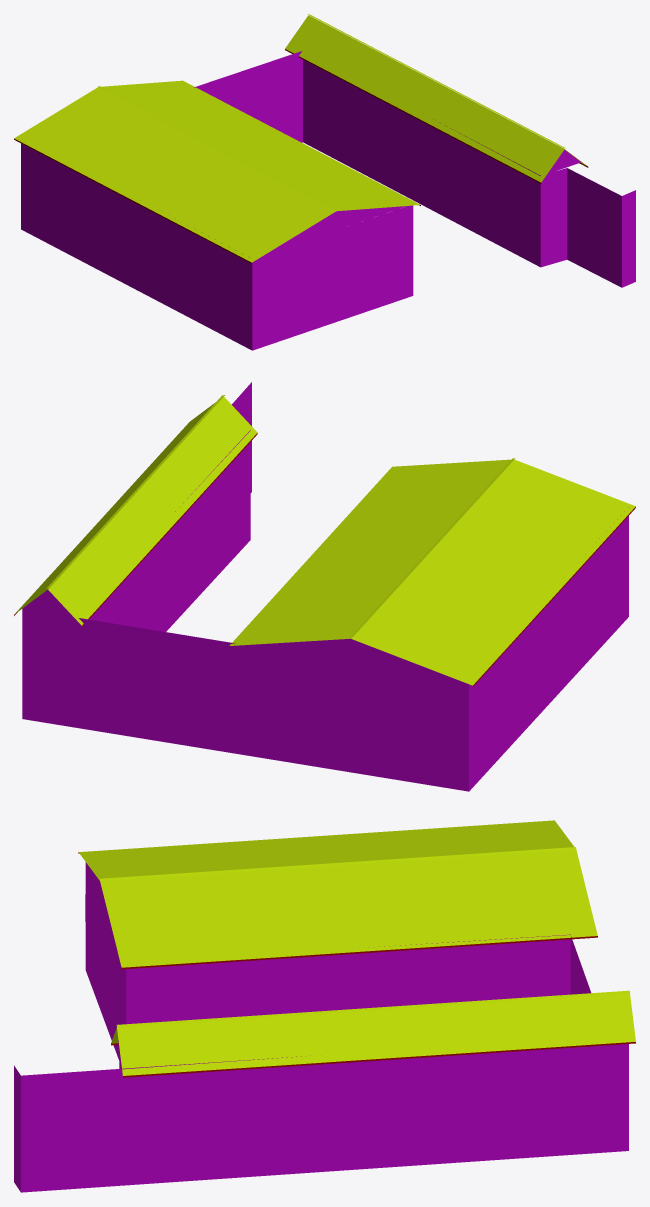
Rendered from svc_25.glb.
3 views of the same model, one above another, from view 1: azimuth 30°, elevation 25°; view 2: azimuth 150°, elevation 25°; view 3: azimuth 270°, elevation 25° (orthographic). The views are drawn at different scales.
Visible parts, largest first — view 1: svc_25; view 2: svc_25; view 3: svc_25.
Boxes of the visible parts, x1,y1,x2,y2 form: svc_25: (14,14,635,350); svc_25: (14,382,635,791); svc_25: (14,820,635,1192).
Bounding box in the file's own units: 39.99 × 10.62 × 40.97.
